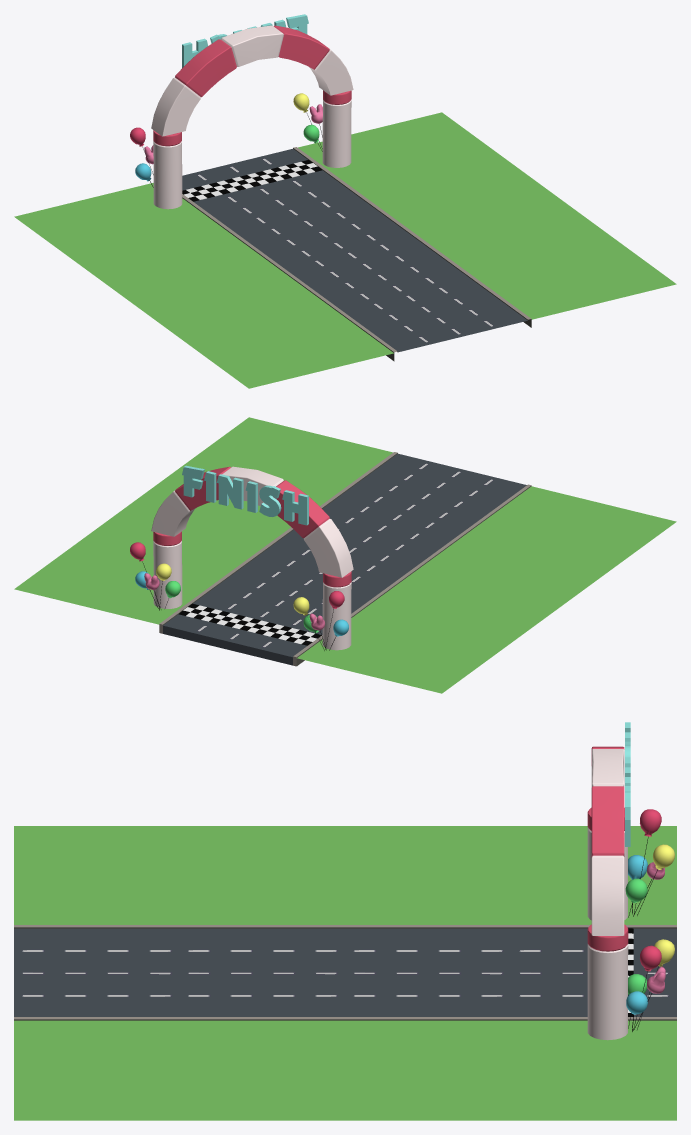
File: Finish Line.fbx
The picture shows the model from 3 angles, top to bottom: view 1: azimuth 30°, elevation 25°; view 2: azimuth 150°, elevation 25°; view 3: azimuth 270°, elevation 25°; orthographic projection. The views are drawn at different scales.
Parts seen in each view (by area): view 1: Base, Cong, Vach_Dich, Bong_bay, FINISH; view 2: Base, Cong, FINISH, Bong_bay, Vach_Dich; view 3: Base, Cong, Bong_bay, FINISH.
Boxes of the visible parts, x1=… form: Base: x1=14, y1=112, x2=676, y2=388; Cong: x1=151, y1=25, x2=353, y2=209; Vach_Dich: x1=182, y1=160, x2=322, y2=201; Bong_bay: x1=130, y1=93, x2=322, y2=187; FINISH: x1=182, y1=14, x2=308, y2=67; Base: x1=14, y1=417, x2=676, y2=693; Cong: x1=151, y1=466, x2=353, y2=650; FINISH: x1=182, y1=465, x2=308, y2=525; Bong_bay: x1=130, y1=542, x2=348, y2=650; Vach_Dich: x1=178, y1=603, x2=321, y2=645; Base: x1=14, y1=826, x2=676, y2=1120; Cong: x1=587, y1=746, x2=628, y2=1040; Bong_bay: x1=625, y1=809, x2=674, y2=1031; FINISH: x1=625, y1=722, x2=630, y2=846.
Size of the model in its own units: 3.58 by 1.28 by 3.4.
